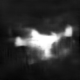plane: (13, 22, 80, 64)
